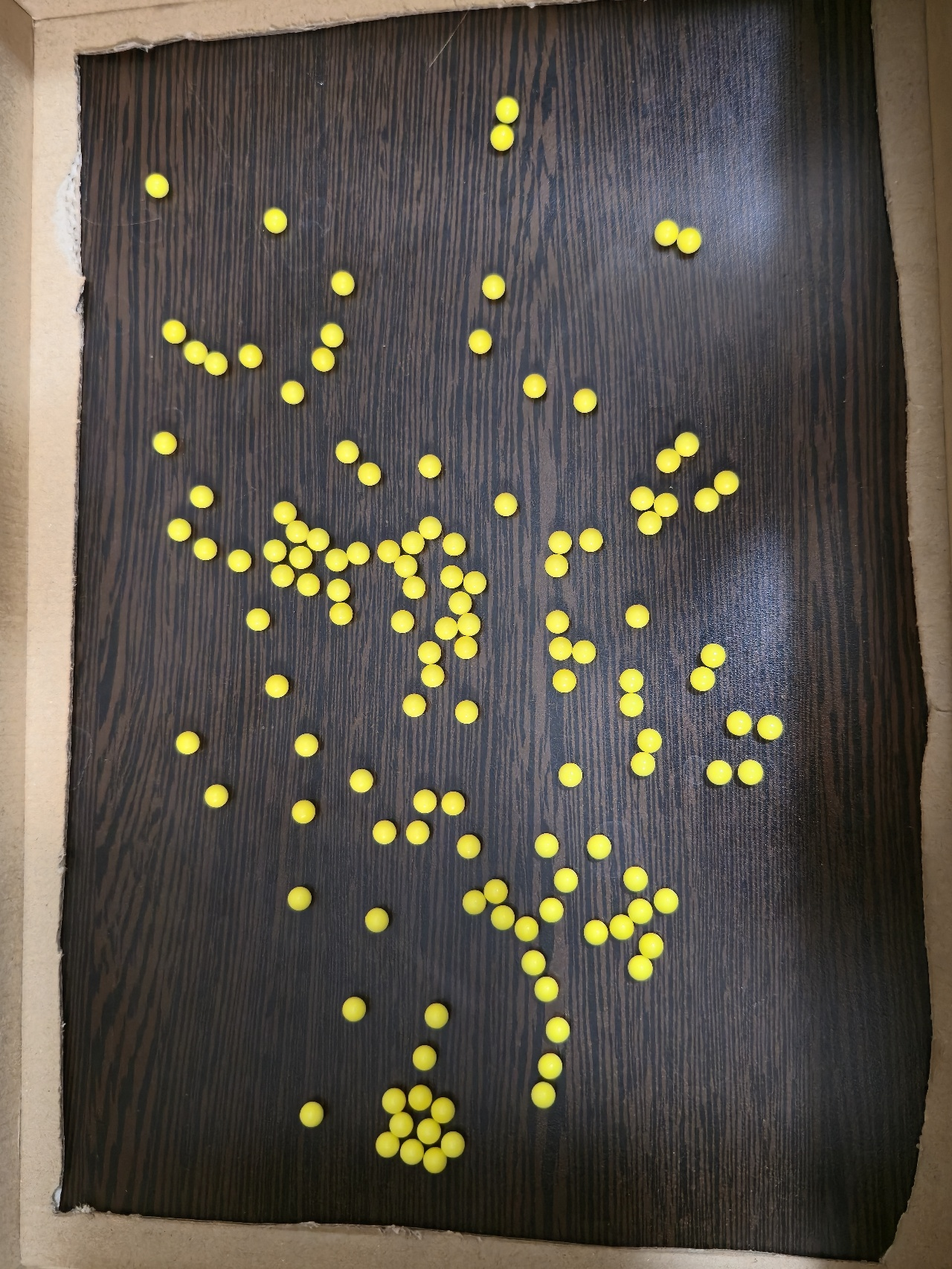yellow_bead: (733, 716, 746, 730), (660, 225, 672, 240), (634, 905, 647, 918), (744, 766, 757, 779), (713, 766, 726, 779), (538, 1088, 550, 1102), (269, 213, 281, 227), (544, 1060, 556, 1073), (552, 1024, 564, 1037), (629, 873, 642, 885), (643, 735, 656, 747), (625, 698, 637, 711), (697, 672, 709, 685), (701, 494, 713, 507), (527, 957, 539, 969), (590, 927, 602, 939), (521, 923, 533, 935), (497, 912, 509, 924), (660, 895, 672, 907), (560, 875, 572, 887), (593, 841, 605, 853), (541, 840, 553, 852), (637, 758, 649, 770), (625, 675, 637, 687), (555, 643, 567, 655), (681, 438, 693, 450), (209, 358, 221, 370), (501, 106, 513, 118), (447, 1138, 458, 1151), (306, 1108, 317, 1121), (541, 983, 552, 996), (634, 963, 647, 974), (616, 921, 627, 934), (707, 649, 718, 662), (663, 454, 674, 467), (682, 236, 695, 247), (431, 1010, 442, 1022), (545, 905, 557, 916), (469, 896, 480, 908), (294, 893, 305, 905), (210, 791, 222, 802), (565, 769, 576, 781), (300, 740, 312, 751), (578, 647, 590, 658), (463, 619, 475, 630), (352, 548, 364, 559), (448, 539, 460, 550), (312, 534, 324, 545), (644, 518, 656, 529), (660, 500, 672, 511), (637, 493, 649, 504), (721, 477, 733, 488), (158, 438, 170, 449), (286, 387, 298, 398), (190, 347, 202, 358), (151, 181, 163, 192), (292, 527, 305, 537), (489, 280, 499, 293), (419, 1053, 430, 1064), (371, 915, 382, 926), (490, 886, 501, 897), (356, 776, 367, 787), (632, 611, 643, 622), (333, 585, 344, 596), (400, 561, 411, 572), (551, 560, 562, 571), (295, 552, 306, 563), (173, 525, 184, 536), (364, 469, 375, 480), (580, 396, 591, 407), (463, 842, 475, 852), (764, 722, 774, 734), (460, 643, 472, 653), (454, 598, 466, 608), (331, 555, 343, 565), (585, 536, 597, 546), (195, 492, 207, 502), (341, 447, 353, 457), (475, 335, 485, 347), (168, 326, 178, 338), (337, 277, 347, 289), (382, 1140, 392, 1151), (349, 1004, 359, 1015), (412, 828, 423, 838), (379, 828, 390, 838), (419, 797, 430, 807), (462, 707, 472, 718), (271, 682, 282, 692), (559, 677, 570, 687), (427, 670, 437, 681), (441, 624, 452, 634), (553, 617, 563, 628), (397, 617, 408, 627), (252, 615, 263, 625), (409, 582, 419, 593), (469, 578, 480, 588), (446, 572, 457, 582), (269, 546, 280, 556), (199, 544, 210, 554), (555, 538, 566, 548), (425, 523, 436, 533), (529, 382, 540, 392), (318, 355, 329, 365), (327, 330, 337, 341), (388, 1095, 396, 1108), (423, 1128, 433, 1138), (448, 799, 458, 809), (409, 701, 419, 711), (277, 571, 287, 581), (234, 556, 244, 566), (384, 547, 394, 557), (408, 538, 418, 548), (501, 500, 511, 510), (182, 739, 193, 748), (303, 579, 312, 590), (424, 649, 434, 658), (425, 462, 434, 472), (245, 353, 255, 362), (406, 1148, 414, 1158), (336, 611, 346, 619), (279, 510, 289, 518), (650, 942, 657, 952), (298, 807, 305, 817), (429, 1160, 438, 1167), (396, 1121, 401, 1131), (440, 1108, 448, 1114), (496, 136, 501, 140), (414, 1096, 419, 1099), (774, 732, 775, 733), (504, 143, 504, 144)
